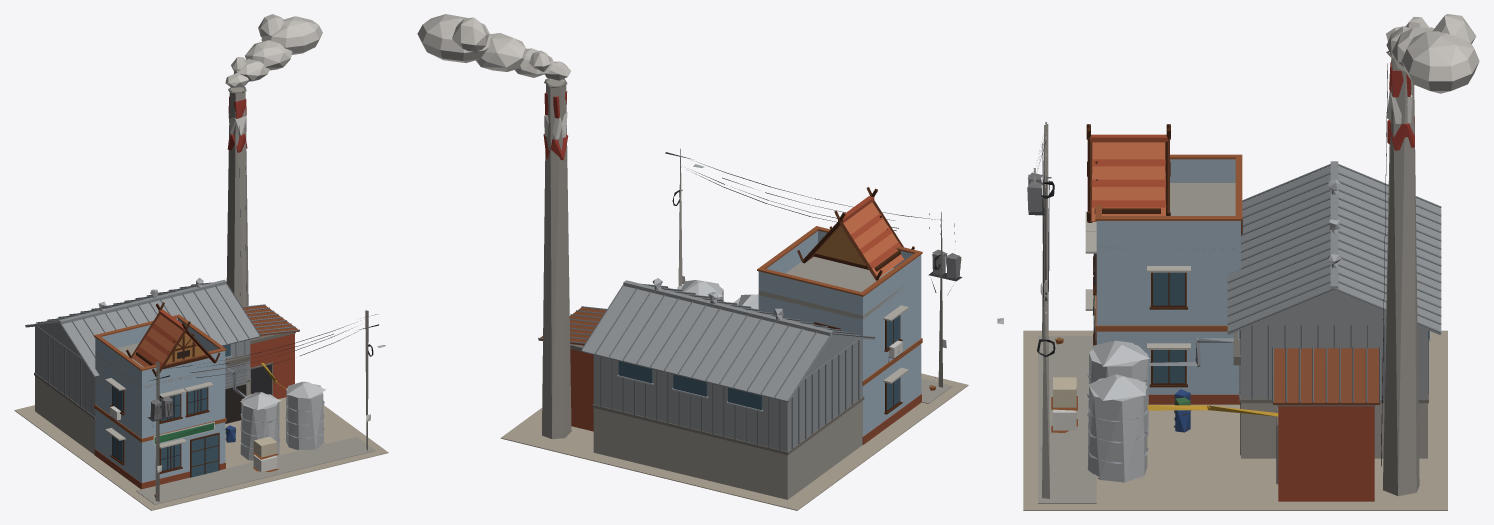
Rendered from factory_3.glb.
3 views of the same model, side by side, from view 1: azimuth 30°, elevation 25°; view 2: azimuth 150°, elevation 25°; view 3: azimuth 270°, elevation 25° (orthographic). The views are drawn at different scales.
Visible parts, largest first — view 1: body, windows; view 2: body, windows; view 3: body, windows.
Boxes of the visible parts, <box> form: body: <box>14,14,388,510</box>; windows: <box>112,344,246,477</box>; body: <box>417,14,968,510</box>; windows: <box>618,315,899,410</box>; body: <box>997,14,1479,510</box>; windows: <box>1095,220,1429,455</box>.
Bounding box in the file's own units: 20.26 × 21.38 × 18.06.
